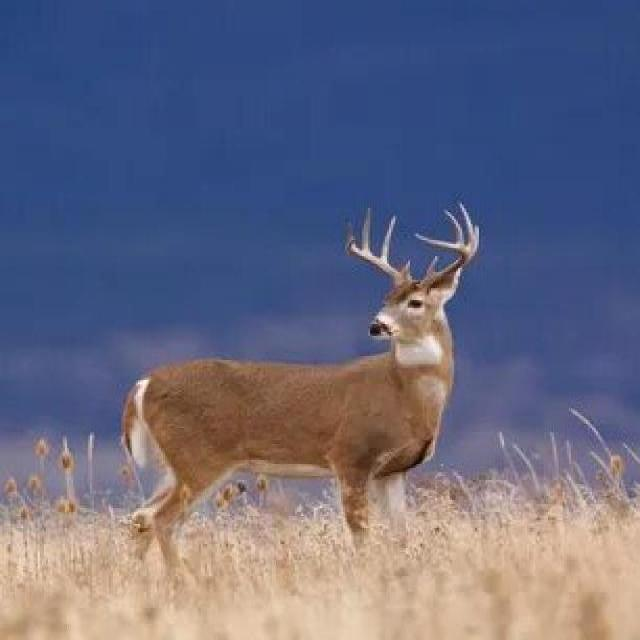deer: (73, 161, 514, 548)
